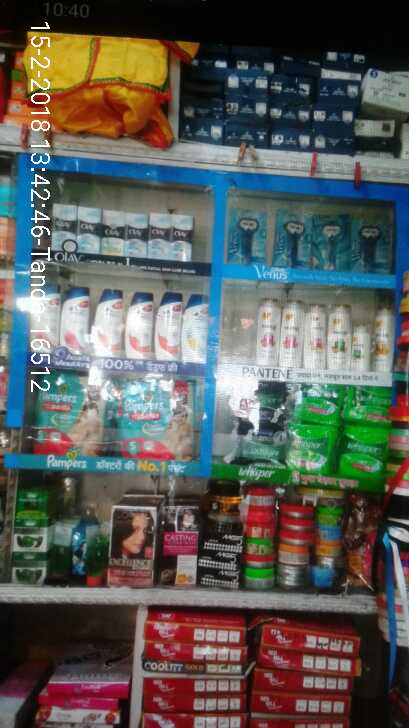venus: (228, 205, 266, 263), (273, 218, 315, 267), (315, 218, 353, 266), (353, 217, 389, 266)
